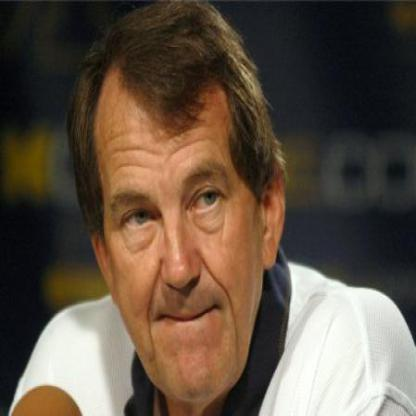face: (99, 7, 263, 408)
